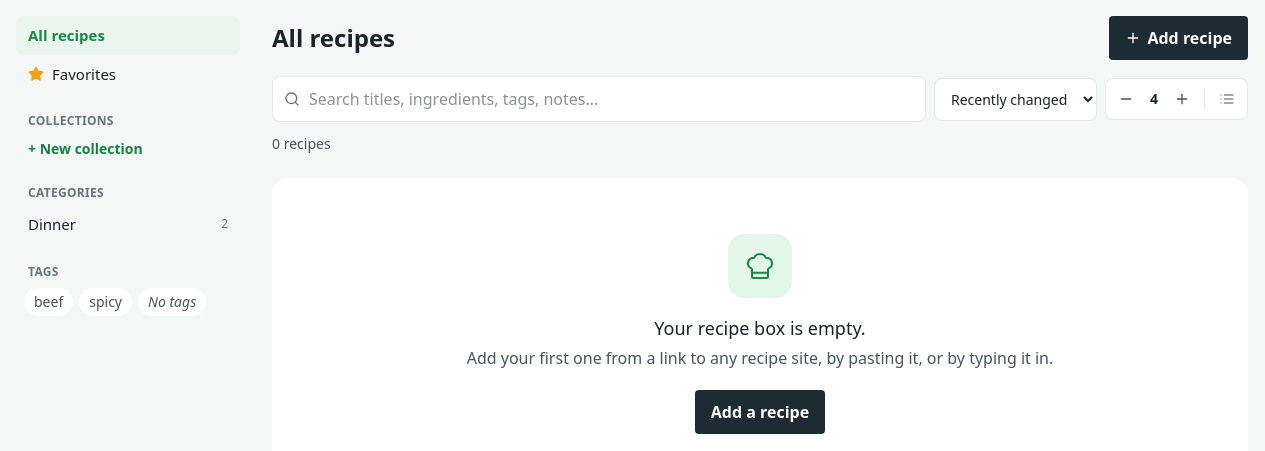
Scenario: a search that finds nothing where you are › isn't offered when you're already searching all recipes
This screenshot has width=1265, height=451.
Step 1. Type "breakfast" into the search field named "Search recipes" → (599, 99), box left=272, top=76, right=926, bottom=122
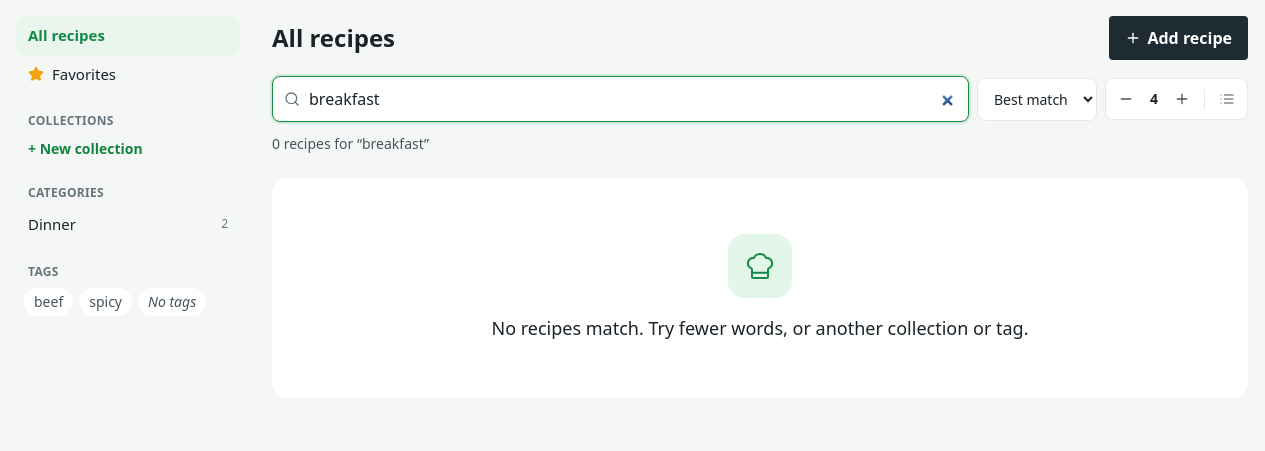
Now the text "0 recipes for “breakfast”" is shown, box left=272, top=134, right=429, bottom=153
